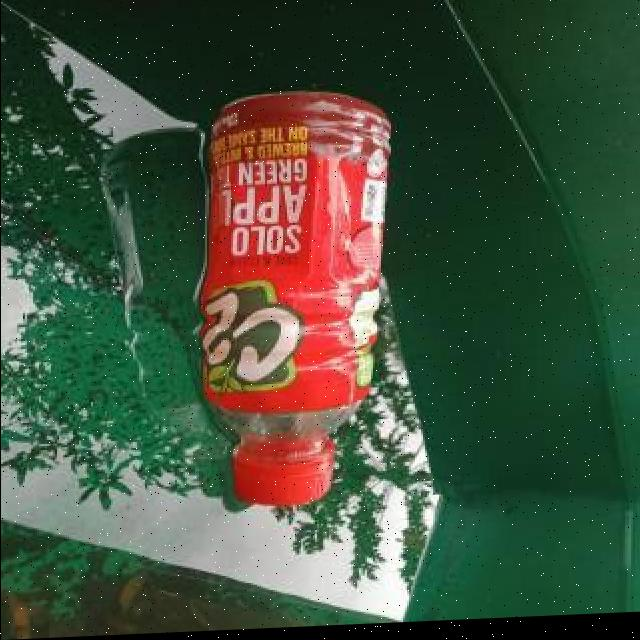bottle: (195, 91, 393, 514)
